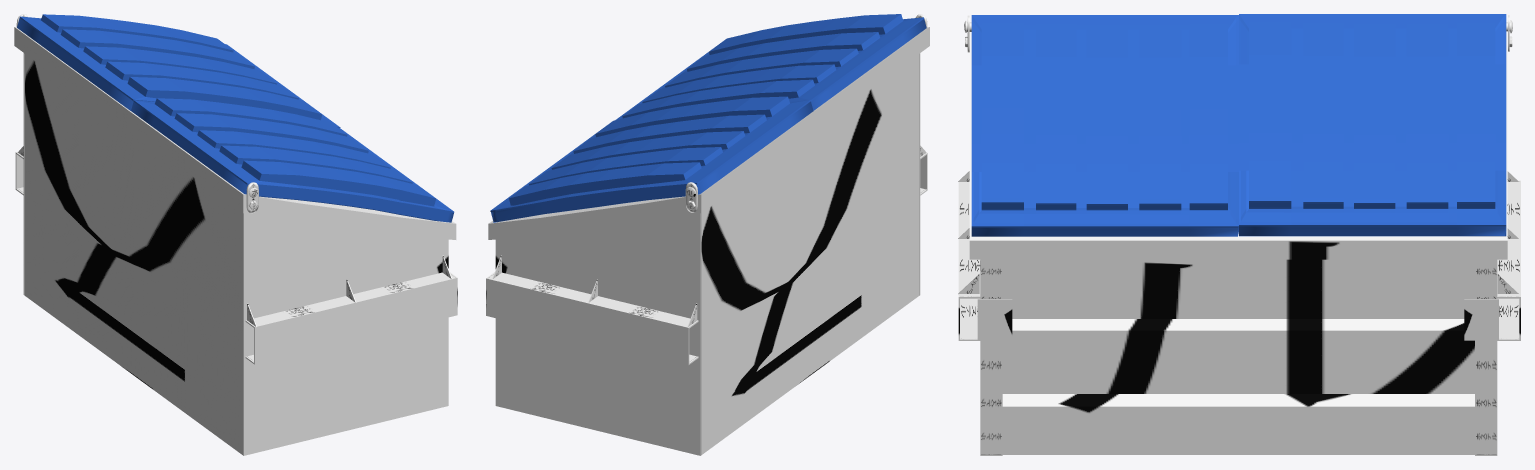
Rendered from trashCan_Geo.fbx.
3 renders of one model, left to right at view 1: azimuth 30°, elevation 25°; view 2: azimuth 150°, elevation 25°; view 3: azimuth 270°, elevation 25°, orthographic. The views are drawn at different scales.
Visible parts, largest first — view 1: Plane.010; view 2: Plane.010; view 3: Plane.010.
Part boxes in pixels (x1=…): Plane.010: x1=14, y1=14, x2=457, y2=455; Plane.010: x1=486, y1=14, x2=929, y2=455; Plane.010: x1=958, y1=14, x2=1520, y2=455.
Bounding box in the file's own units: 113 × 141 × 220.
